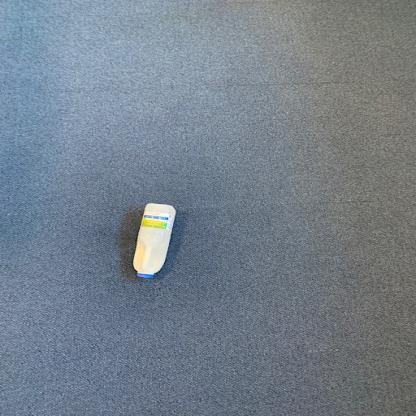trash: (131, 200, 175, 282)
